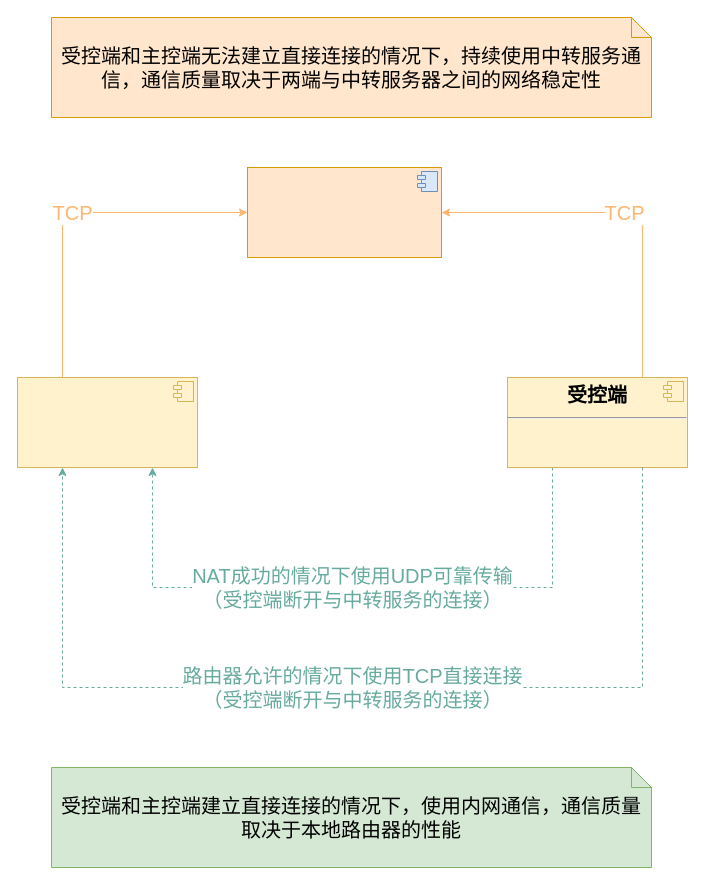
This 705x885 diagram has some shape labels left out. Here are the shapes that lost their labels. From the top down, the centre of each, then its label:
At (344,212): "云端中转服务".
At (107,422): "主控端".
